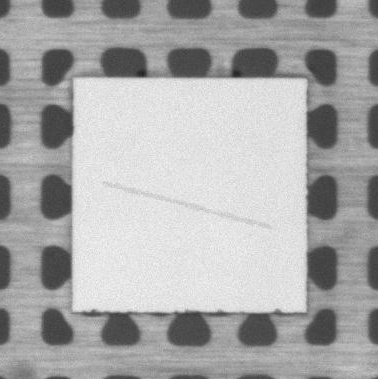DIE_CRACK: (104, 183, 270, 228)
